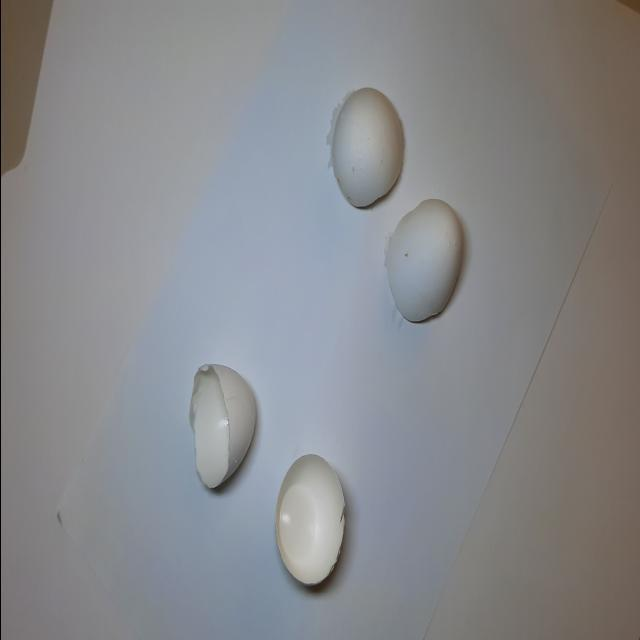egg shell: (270, 440, 348, 596), (318, 78, 407, 212), (380, 195, 468, 327), (180, 357, 260, 495)
